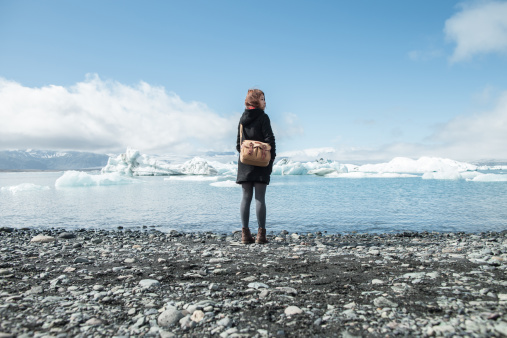em pe: (227, 80, 277, 239)
